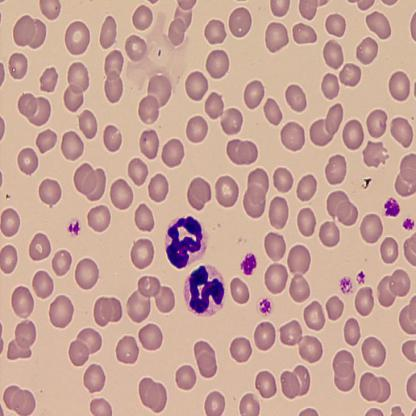Segmented neutrophil: (165, 213, 208, 268), (183, 262, 226, 316)
